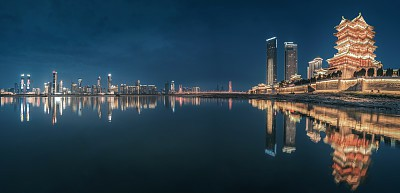Teng: (326, 13, 383, 76)
